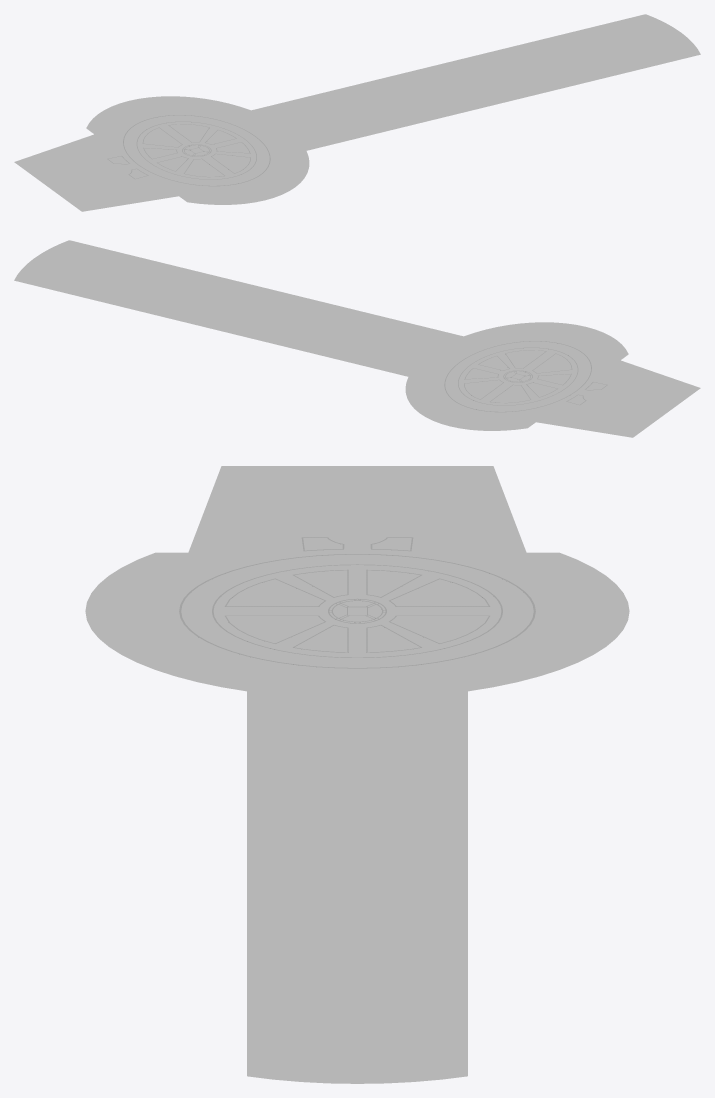
File: Ground.FBX
3 renders of one model, top to bottom at view 1: azimuth 30°, elevation 25°; view 2: azimuth 150°, elevation 25°; view 3: azimuth 270°, elevation 25°, orthographic. The views are drawn at different scales.
Visible parts, largest first — view 1: Cylinder002, Circle002; view 2: Cylinder002, Circle002; view 3: Cylinder002, Circle002.
Boxes of the visible parts, box(x1,y1,x2,y2) form: Cylinder002: box(14, 14, 700, 211); Circle002: box(107, 115, 270, 186); Cylinder002: box(14, 240, 700, 437); Circle002: box(444, 341, 607, 412); Cylinder002: box(85, 466, 629, 1083); Circle002: box(179, 537, 535, 668).
Size of the model in its own units: 95671 by 1.6 by 35607.
